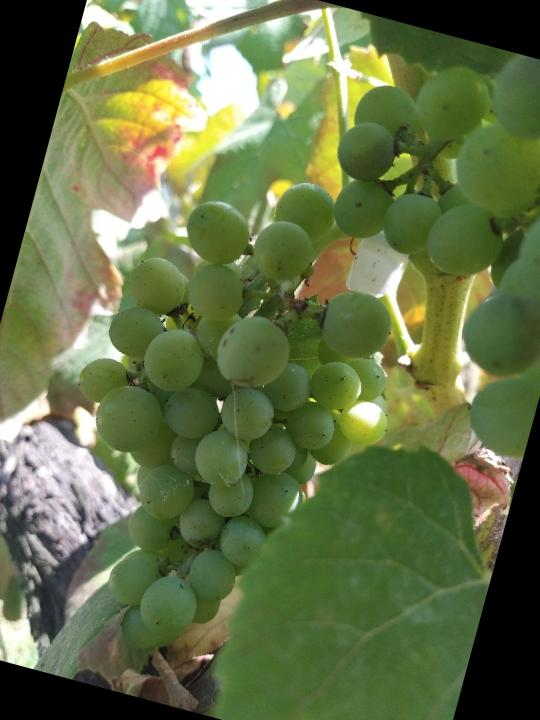grape: (11, 137, 448, 707)
